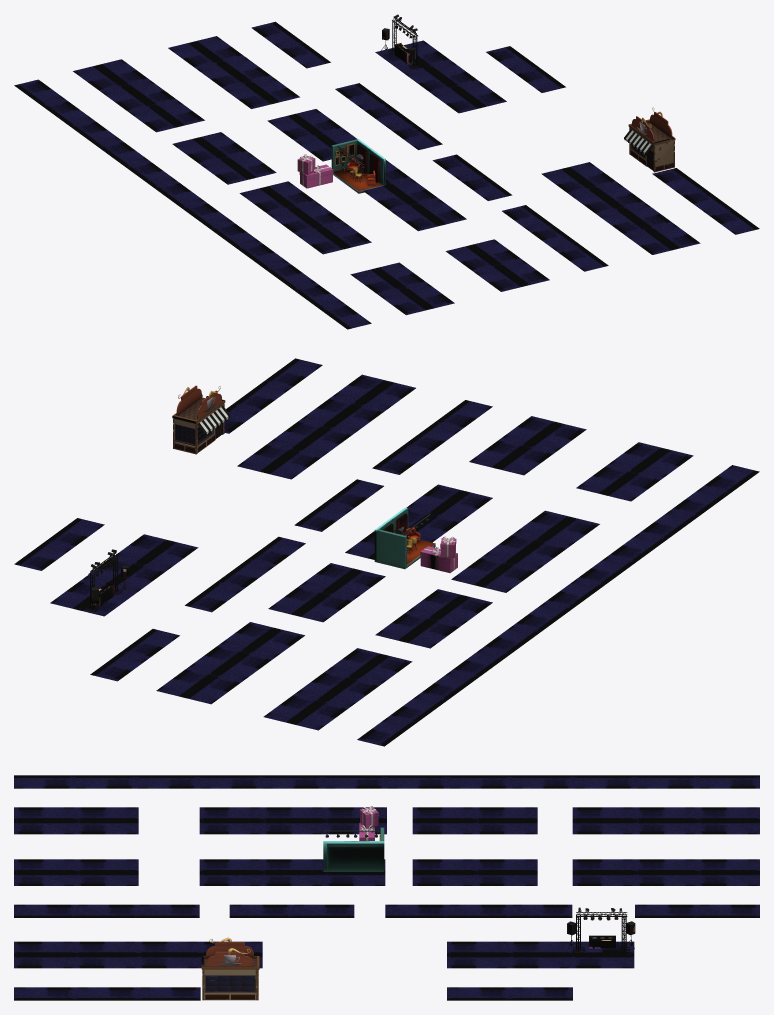
File: Kiosk_EventBooths_Carpet.glb
3 renders of one model, top to bottom at view 1: azimuth 30°, elevation 25°; view 2: azimuth 150°, elevation 25°; view 3: azimuth 270°, elevation 25°, orthographic. The views are drawn at different scales.
Visible parts, largest first — view 1: Plane.363, Take3.002; view 2: Plane.363, Take3.002; view 3: Plane.363, Take3.002.
Part boxes in pixels (box(x1,y1,x2,y2)): Plane.363: box(14, 21, 759, 329); Take3.002: box(297, 14, 675, 193); Plane.363: box(14, 358, 759, 746); Take3.002: box(84, 385, 457, 614); Plane.363: box(14, 775, 759, 1000); Take3.002: box(201, 806, 635, 1000).
Bounding box in the file's own units: 46.92 × 5.22 × 65.69.
Materials: 2 (2 with a texture image).
